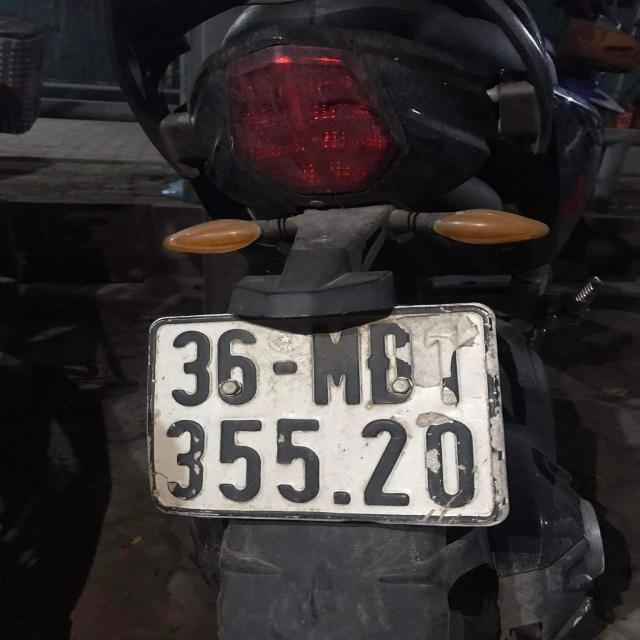0: (421, 414, 477, 508)
2: (356, 416, 414, 507)
3: (163, 419, 207, 501), (168, 327, 212, 408)
5: (272, 416, 324, 504), (214, 416, 264, 502)
6: (213, 326, 260, 406)
B: (363, 321, 417, 407)
M: (309, 318, 361, 408)
